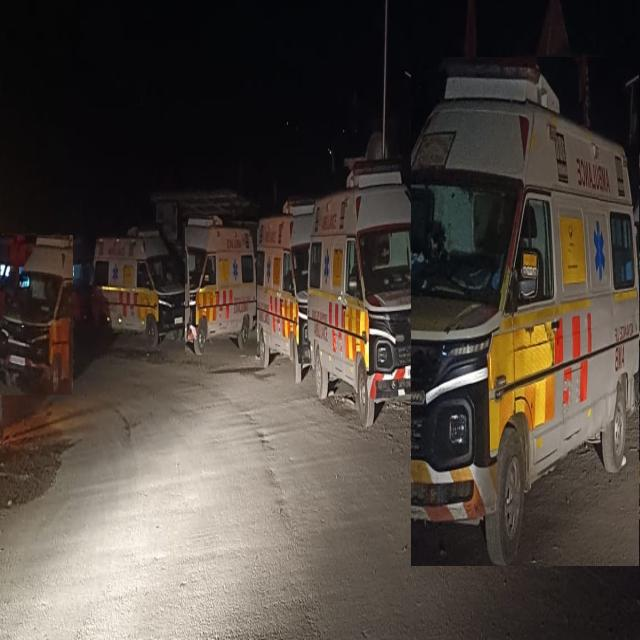emergency: (411, 58, 640, 566), (309, 160, 416, 427), (250, 198, 315, 383), (0, 235, 73, 395), (94, 231, 188, 347), (186, 215, 257, 355)
